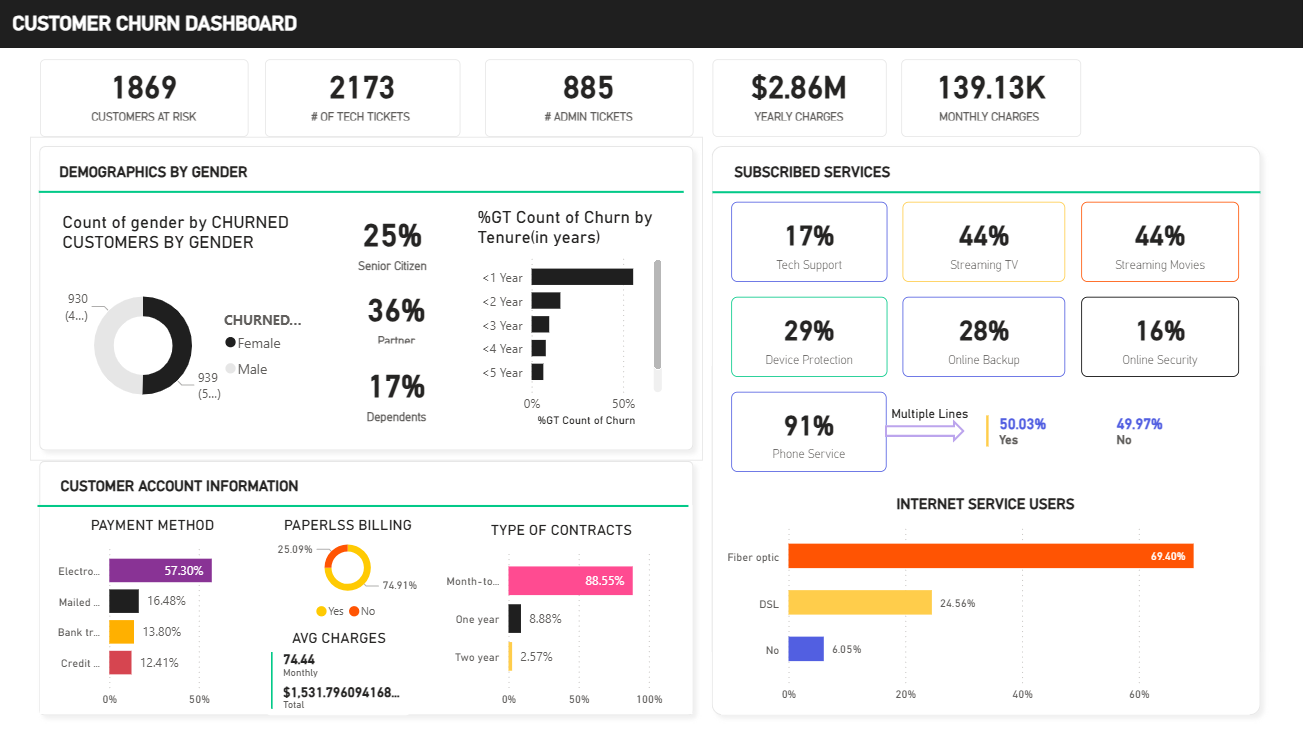

The dashboard page shown, as its layout file describes it:
{"tool":"powerbi","page":{"name":"Churn Dashboard","canvas":[1280,720],"ordinal":0},"visuals":[{"type":"shape","box":[0,0,1280,49],"z":0},{"type":"shape","box":[34,136,658,316],"z":0,"group":"g1"},{"type":"card","fields":{"Values":["Churn.% Tech Support"]},"box":[720,199,152.4,78.4],"z":0,"group":"g4"},{"type":"shape","box":[692,136,555,575],"z":1000},{"type":"card","fields":{"Values":["Churn.% Streaming TV"]},"box":[887.4,199,159.5,78.4],"z":1000,"group":"g4"},{"type":"donutChart","fields":{"Category":["01 Churn-Dataset.gender"],"Y":["CountNonNull(01 Churn-Dataset.gender)"]},"box":[60.9,209.4,251.9,223.8],"z":1000,"group":"g1"},{"type":"shape","box":[702,123,536,133],"z":1500,"group":"g3"},{"type":"shape","box":[42,430,636.8,133],"z":1500,"group":"g2"},{"type":"textbox","box":[12,8,438,33],"z":2000},{"type":"textbox","box":[703.8,145,522.6,38],"z":2000,"group":"g3"},{"type":"textbox","box":[42.7,146.1,630.9,47.3],"z":2000,"group":"g1"},{"type":"card","fields":{"Values":["Churn.% Streaming Movies"]},"box":[1062.8,199,154.2,78.4],"z":2000,"group":"g4"},{"type":"textbox","box":[44.2,452,636.8,38],"z":2000,"group":"g2"},{"type":"card","fields":{"Values":["Churn.% of Senior Citizen"]},"box":[330.5,204.4,118,77.5],"z":3000,"group":"g1"},{"type":"card","fields":{"Values":["Churn.% Device Protection"]},"box":[720,291.6,152.4,78.4],"z":3000,"group":"g4"},{"type":"shape","box":[34,444,658,267],"z":3000},{"type":"card","fields":{"Values":["CountNonNull(01 Churn-Dataset.customerID)"]},"box":[44,60,204,76],"z":4000},{"type":"card","fields":{"Values":["Churn.% of partner"]},"box":[329.5,278.9,125.5,74.5],"z":4000,"group":"g1"},{"type":"card","fields":{"Values":["Churn.% Online Backup"]},"box":[887.4,291.6,159.5,78.4],"z":4000,"group":"g4"},{"type":"shape","box":[42.7,151.1,630.9,78.5],"z":5000,"group":"g1"},{"type":"card","fields":{"Values":["Churn.% Online Sec"]},"box":[1062.8,291.6,154.2,78.4],"z":5000,"group":"g4"},{"type":"card","fields":{"Values":["Churn.% Phone Service"]},"box":[720,385,152,78],"z":5000},{"type":"card","fields":{"Values":["Sum(01 Churn-Dataset.numTechTickets)"]},"box":[264,60,191,76],"z":6000},{"type":"card","fields":{"Values":["Churn.% of Dependents"]},"box":[329.5,351.4,125.5,79.5],"z":6000,"group":"g1"},{"type":"clusteredBarChart","fields":{"Y":["CountNonNull(Churn.Churn)"],"Category":["Churn.Tenure(in years)"]},"box":[466.9,204.4,190.5,220.4],"z":7000,"group":"g1"},{"type":"clusteredBarChart","title":"PAYMENT METHOD","fields":{"Y":["CountNonNull(Churn.PaymentMethod)"],"Category":["Churn.PaymentMethod"]},"box":[44,497,220,204],"z":7000},{"type":"card","fields":{"Values":["Sum(01 Churn-Dataset.TotalCharges)"]},"box":[702,60,170,76],"z":8000},{"type":"card","fields":{"Values":["Sum(01 Churn-Dataset.numAdminTickets)"]},"box":[479,60,204,76],"z":9000},{"type":"group","id":"g1","title":"Group 1","box":[34,136,658,316],"z":10000},{"type":"card","fields":{"Values":["Sum(01 Churn-Dataset.MonthlyCharges)"]},"box":[887,60,176,76],"z":11000},{"type":"donutChart","title":"PAPERLSS BILLING","fields":{"Category":["Churn.PaperlessBilling"],"Y":["CountNonNull(Churn.PaperlessBilling)"]},"box":[248,497,194,126],"z":12000},{"type":"multiRowCard","title":"AVG CHARGES","fields":{"Values":["Avg(Churn.MonthlyCharges)","Avg(Churn.TotalCharges)"]},"box":[264,606,143,95],"z":13000},{"type":"clusteredBarChart","title":"TYPE OF CONTRACTS","fields":{"Category":["Churn.Contract"],"Y":["CountNonNull(Churn.Contract)"]},"box":[426,497,257,204],"z":14000},{"type":"group","id":"g2","title":"Group 2","box":[42,430,639,133],"z":15000},{"type":"group","id":"g3","title":"Group 2","box":[702,123,536,133],"z":16000},{"type":"group","id":"g4","title":"Group 3","box":[720,199,497,171],"z":17000},{"type":"shape","box":[871,412,78,23],"z":18000},{"type":"textbox","box":[872,391,300,30],"z":19000},{"type":"multiRowCard","fields":{"Values":["Churn.% Yes-Multiple Lines","Churn.% No-Multiple Lines"]},"box":[965,404,252,53],"z":20000},{"type":"barChart","title":"INTERNET SERVICE USERS","fields":{"Y":["CountNonNull(Churn.InternetService)"],"Category":["Churn.InternetService"]},"box":[710,471,517,230],"z":21000}]}

Visuals, with their boxes in screenshot pixels (x1, y1, x2, y2), scaled from the page's 1280x720 canvas onto the 1303x731 screenshot:
shape: bbox(0, 0, 1302, 50)
shape: bbox(35, 138, 704, 459)
card - Churn.% Tech Support: bbox(733, 202, 888, 282)
shape: bbox(704, 138, 1269, 722)
card - Churn.% Streaming TV: bbox(903, 202, 1066, 282)
donutChart - 01 Churn-Dataset.gender x CountNonNull(01 Churn-Dataset.gender): bbox(62, 213, 318, 440)
shape: bbox(715, 125, 1260, 260)
shape: bbox(43, 437, 691, 572)
textbox: bbox(12, 8, 458, 42)
textbox: bbox(716, 147, 1248, 186)
textbox: bbox(43, 148, 686, 196)
card - Churn.% Streaming Movies: bbox(1082, 202, 1239, 282)
textbox: bbox(45, 459, 693, 497)
card - Churn.% of Senior Citizen: bbox(336, 208, 457, 286)
card - Churn.% Device Protection: bbox(733, 296, 888, 376)
shape: bbox(35, 451, 704, 722)
card - CountNonNull(01 Churn-Dataset.customerID): bbox(45, 61, 252, 138)
card - Churn.% of partner: bbox(335, 283, 463, 359)
card - Churn.% Online Backup: bbox(903, 296, 1066, 376)
shape: bbox(43, 153, 686, 233)
card - Churn.% Online Sec: bbox(1082, 296, 1239, 376)
card - Churn.% Phone Service: bbox(733, 391, 888, 470)
card - Sum(01 Churn-Dataset.numTechTickets): bbox(269, 61, 463, 138)
card - Churn.% of Dependents: bbox(335, 357, 463, 437)
clusteredBarChart - CountNonNull(Churn.Churn) x Churn.Tenure(in years): bbox(475, 208, 669, 431)
"PAYMENT METHOD" clusteredBarChart: bbox(45, 505, 269, 712)
card - Sum(01 Churn-Dataset.TotalCharges): bbox(715, 61, 888, 138)
card - Sum(01 Churn-Dataset.numAdminTickets): bbox(488, 61, 695, 138)
"Group 1" group: bbox(35, 138, 704, 459)
card - Sum(01 Churn-Dataset.MonthlyCharges): bbox(903, 61, 1082, 138)
"PAPERLSS BILLING" donutChart: bbox(252, 505, 450, 633)
"AVG CHARGES" multiRowCard: bbox(269, 615, 414, 712)
"TYPE OF CONTRACTS" clusteredBarChart: bbox(434, 505, 695, 712)
"Group 2" group: bbox(43, 437, 693, 572)
"Group 2" group: bbox(715, 125, 1260, 260)
"Group 3" group: bbox(733, 202, 1239, 376)
shape: bbox(887, 418, 966, 442)
textbox: bbox(888, 397, 1193, 427)
multiRowCard - Churn.% Yes-Multiple Lines x Churn.% No-Multiple Lines: bbox(982, 410, 1239, 464)
"INTERNET SERVICE USERS" barChart: bbox(723, 478, 1249, 712)
